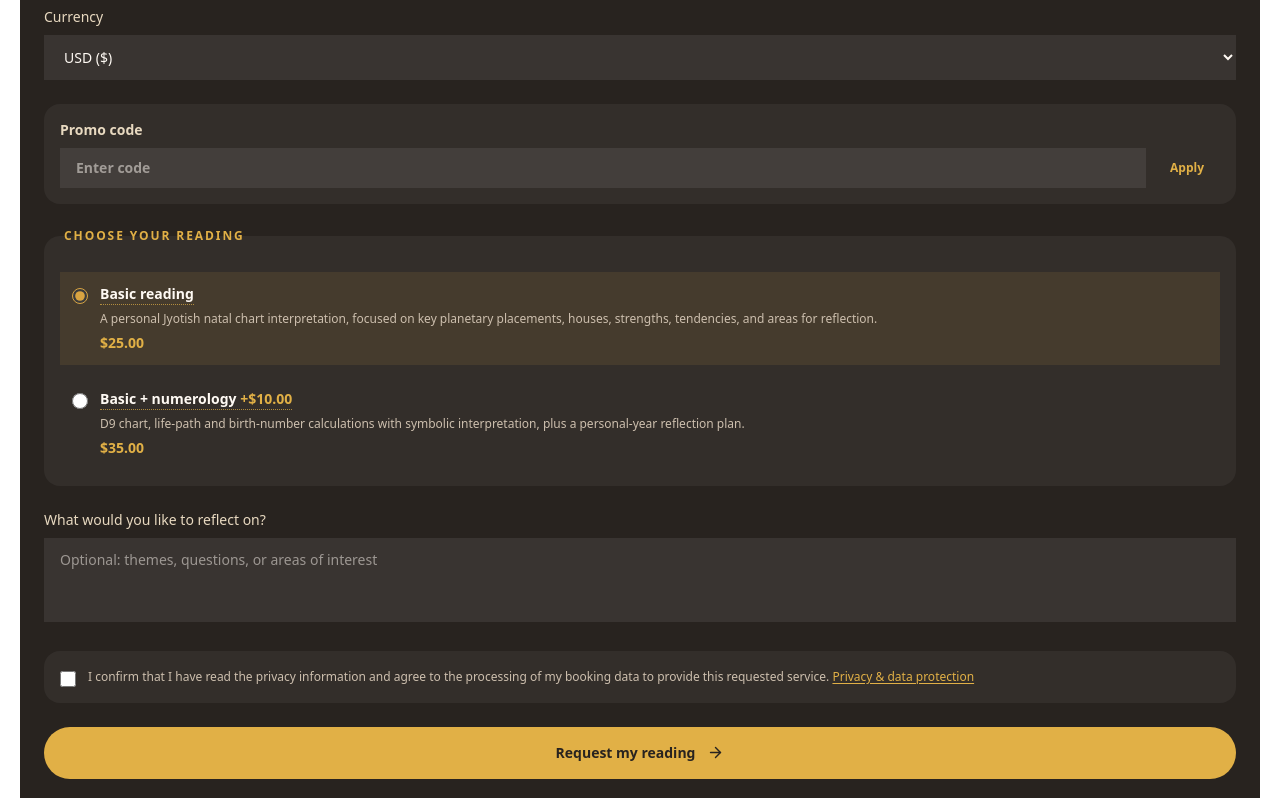
Test: Home booking payment UX › updates the dedicated total breakdown when the package changes
This screenshot has width=1280, height=798.
(page scrolled)
Step 1. Click the radio button labelled "Basic + numerology" → {"x": 80, "y": 401}, box [72,393,88,409]
(page scrolled)
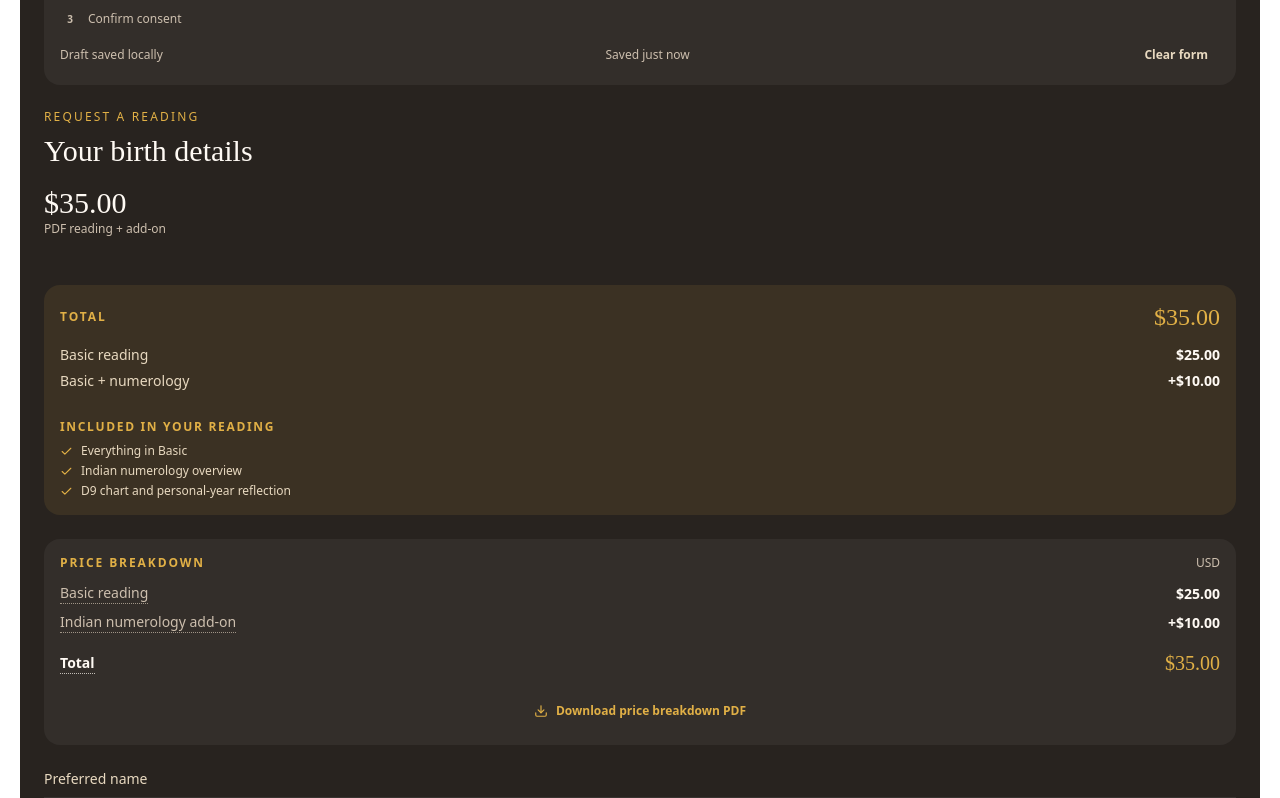
Result: the element with test id "live-total-breakdown" shows "+$10" at [1168,371,1220,390]
Result: the element with test id "live-total-breakdown" shows "$35" at [1154,304,1220,330]
